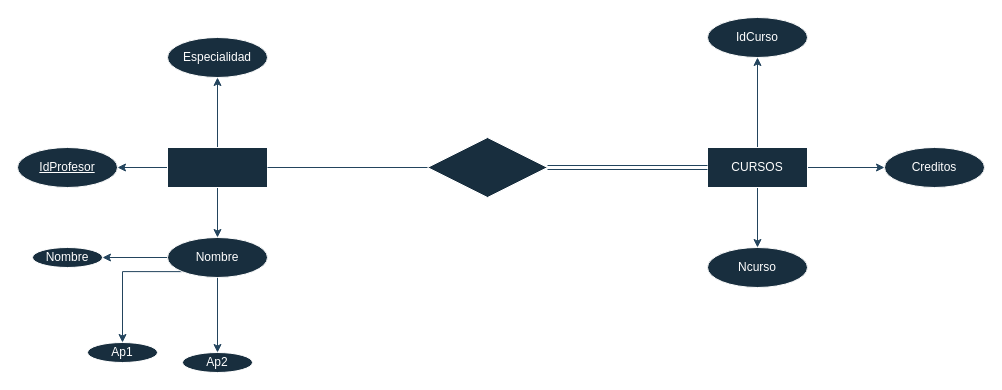
This 1002x390 diagram has some shape labels left out. Here are the shapes that lost their labels. From the top down, the centre of each, then its label:
pixel 217 167: PROFESORES
pixel 487 167: IMPARTE
